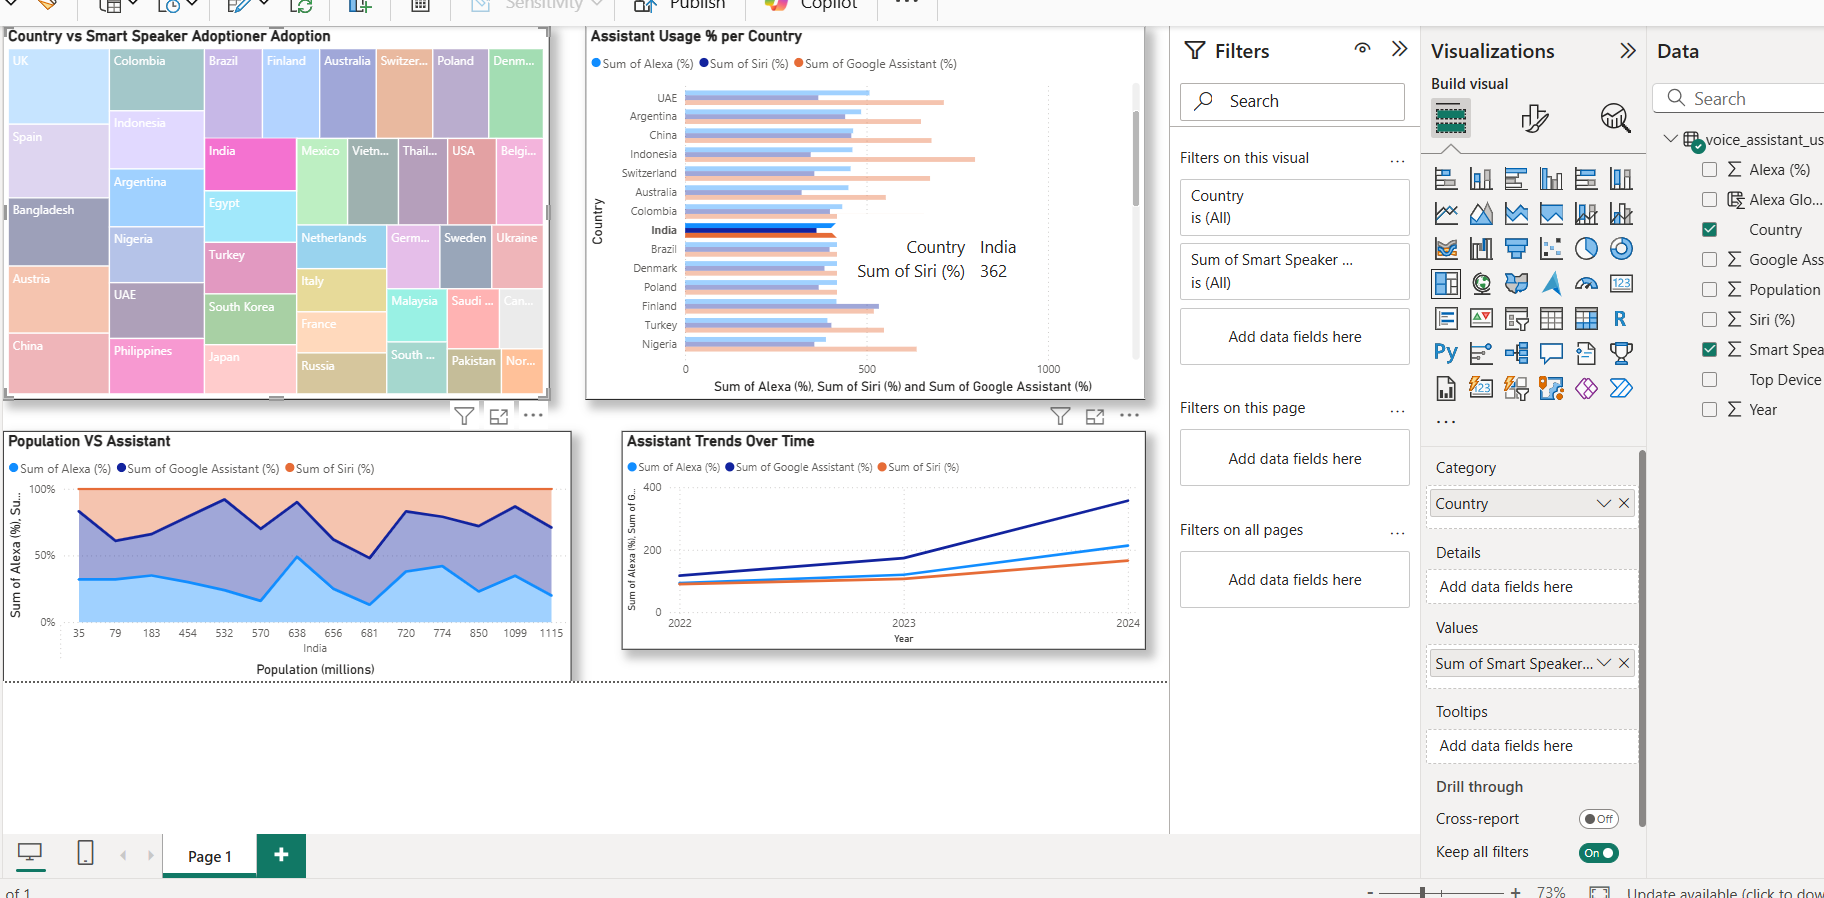

What the dashboard file says about the page in this screenshot:
{"tool":"powerbi","page":{"name":"Page 1","canvas":[1280,720],"ordinal":0},"visuals":[{"type":"treemap","title":"Country vs Smart Speaker Adoptioner Adoption ","fields":{"Group":["voice_assistant_usage_500_rows.Country"],"Values":["Sum(voice_assistant_usage_500_rows.Smart Speaker Adoption (%))"]},"box":[0,0,599.7,410.3],"z":0},{"type":"clusteredBarChart","title":" Assistant Usage % per Country","fields":{"Category":["voice_assistant_usage_500_rows.Country"],"Y":["Sum(voice_assistant_usage_500_rows.Alexa (%))","Sum(voice_assistant_usage_500_rows.Siri (%))","Sum(voice_assistant_usage_500_rows.Google Assistant (%))"]},"box":[639.5,0,614.8,410.3],"z":1},{"type":"lineChart","title":"Assistant Trends Over Time","fields":{"Category":["voice_assistant_usage_500_rows.Year"],"Y":["Sum(voice_assistant_usage_500_rows.Alexa (%))","Sum(voice_assistant_usage_500_rows.Google Assistant (%))","Sum(voice_assistant_usage_500_rows.Siri (%))"]},"box":[679.2,444.6,575,240.1],"z":2},{"type":"hundredPercentStackedAreaChart","title":"Population VS Assistant","fields":{"Category":["voice_assistant_usage_500_rows.Country","voice_assistant_usage_500_rows.Population (millions)"],"Y":["Sum(voice_assistant_usage_500_rows.Alexa (%))","Sum(voice_assistant_usage_500_rows.Google Assistant (%))","Sum(voice_assistant_usage_500_rows.Siri (%))"]},"box":[0,444.6,624.4,275.8],"z":3}]}

Visuals, with their boxes on the page's 1280x720 design canvas (x1, y1, x2, y2). These are canvas units, not pixel positions in the 1824x898 screenshot, which may show the page scaled, cropped or inside an application window:
"Country vs Smart Speaker Adoptioner Adoption " treemap: 0/0/600/410
" Assistant Usage % per Country" clusteredBarChart: 640/0/1254/410
"Assistant Trends Over Time" lineChart: 679/445/1254/685
"Population VS Assistant" hundredPercentStackedAreaChart: 0/445/624/720
